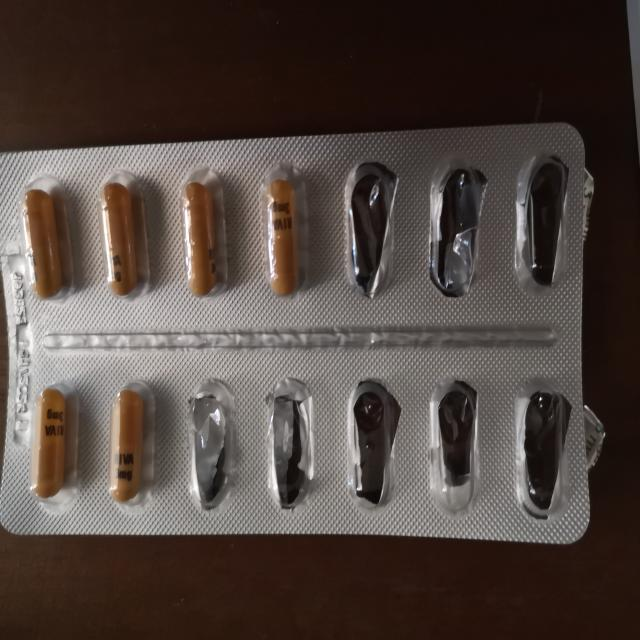Empty: (508, 375, 576, 528), (510, 144, 576, 296), (338, 156, 405, 304), (422, 159, 490, 301), (421, 374, 486, 520), (259, 371, 321, 516), (341, 373, 404, 515), (180, 373, 242, 516)
Pill: (93, 169, 155, 301), (25, 376, 84, 512), (172, 166, 230, 301), (256, 162, 310, 304), (15, 176, 70, 304), (104, 377, 156, 512)
